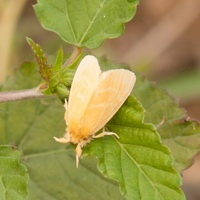insect: (54, 55, 135, 167)
